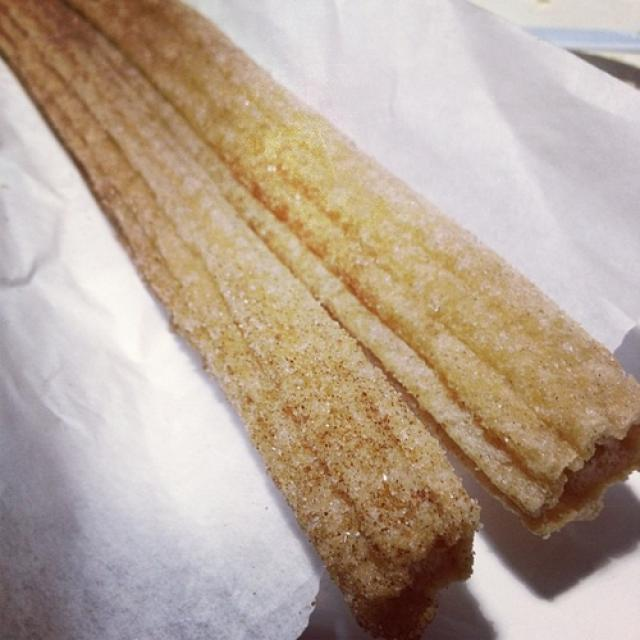炸货点心: (23, 21, 605, 578)
